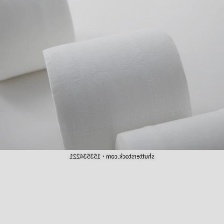tissue: (36, 16, 198, 149), (0, 0, 83, 85), (109, 100, 224, 150)
